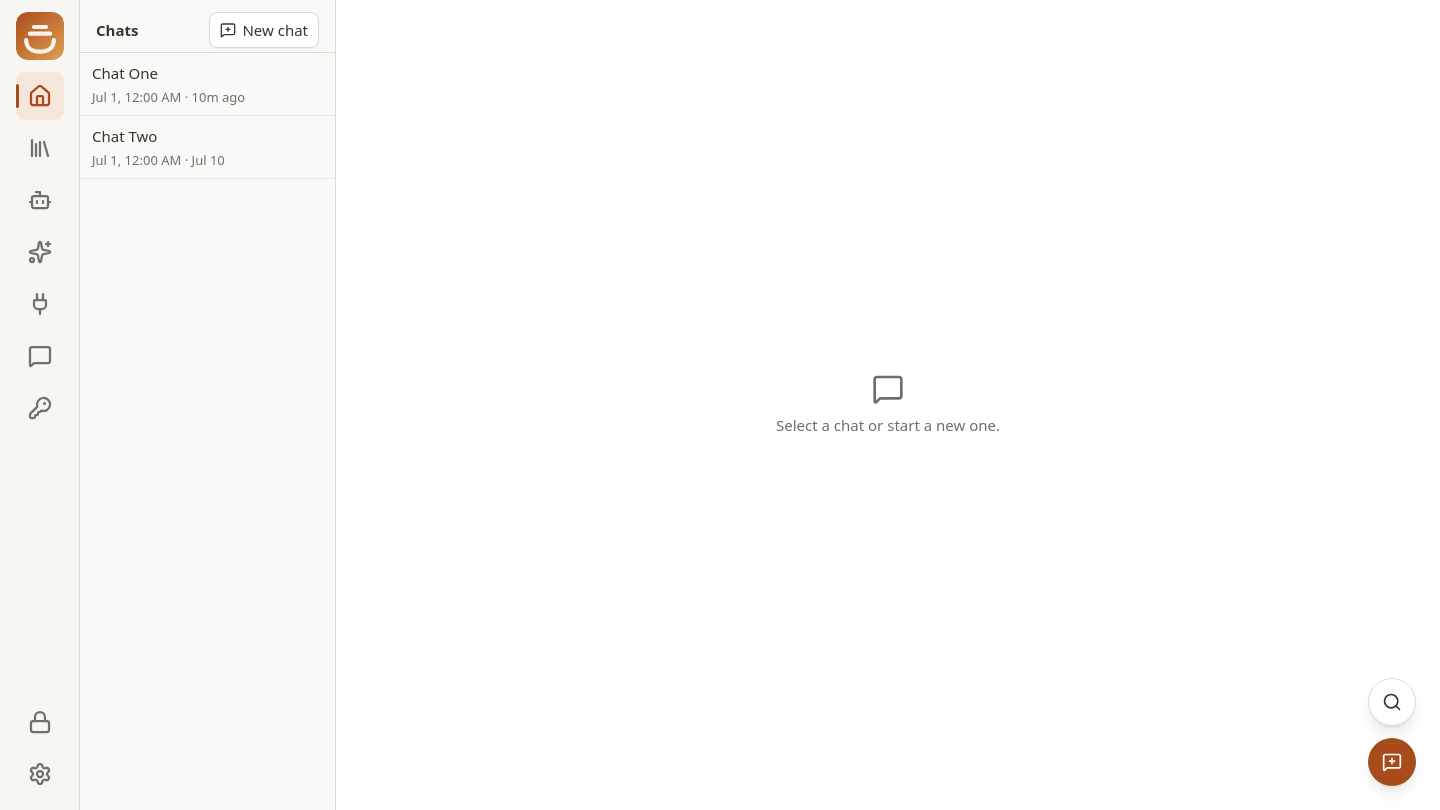
Scenario: selecting an EXISTING chat focuses the composer
This screenshot has width=1440, height=810.
Click the text "Chat One".
click(125, 73)  # box [92,61,158,85]
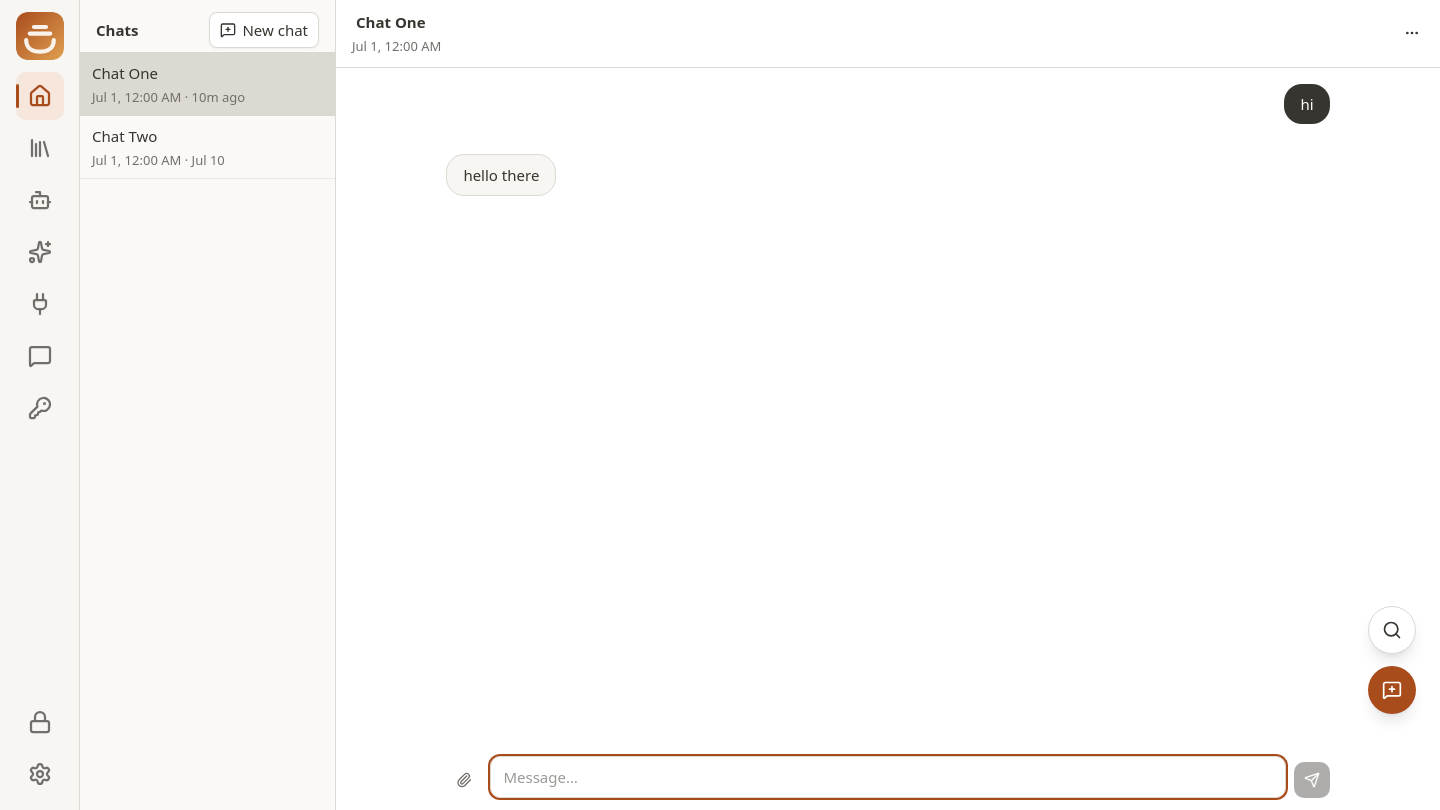
Expected: the heading "Chat One" is shown, [356,12,426,32]
